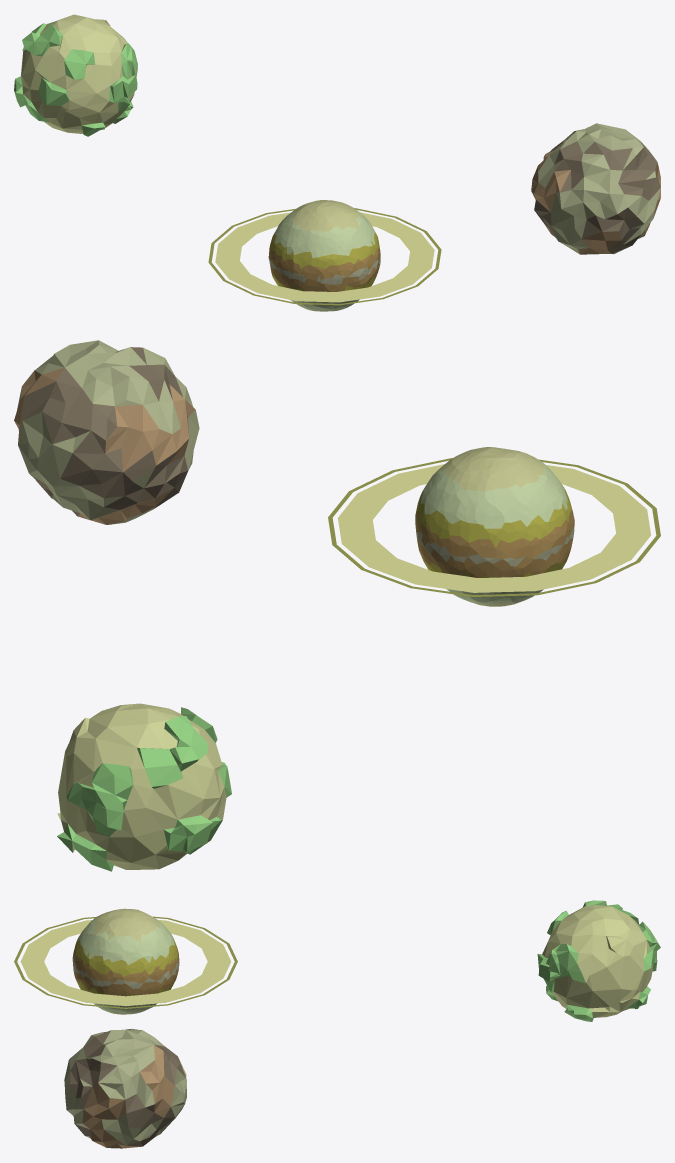
The model's file is LPPlanets.fbx.
3 renders of one model, top to bottom at view 1: azimuth 30°, elevation 25°; view 2: azimuth 150°, elevation 25°; view 3: azimuth 270°, elevation 25°, orthographic. The views are drawn at different scales.
Visible parts, largest first — view 1: LPPlanet01, LPPlanet02, LPPlanet03, LPPlanetDisc03; view 2: LPPlanet01, LPPlanet02, LPPlanet03, LPPlanetDisc03; view 3: LPPlanet01, LPPlanet02, LPPlanet03, LPPlanetDisc03.
Boxes of the visible parts, x1=… form: LPPlanet01: x1=531, y1=123, x2=660, y2=254; LPPlanet02: x1=14, y1=14, x2=137, y2=136; LPPlanet03: x1=268, y1=200, x2=380, y2=311; LPPlanetDisc03: x1=208, y1=208, x2=441, y2=305; LPPlanet01: x1=14, y1=340, x2=199, y2=524; LPPlanet02: x1=57, y1=703, x2=231, y2=871; LPPlanet03: x1=415, y1=447, x2=574, y2=606; LPPlanetDisc03: x1=328, y1=458, x2=660, y2=596; LPPlanet01: x1=64, y1=1028, x2=186, y2=1148; LPPlanet02: x1=537, y1=900, x2=660, y2=1021; LPPlanet03: x1=72, y1=908, x2=179, y2=1014; LPPlanetDisc03: x1=14, y1=916, x2=237, y2=1008.
Bounding box in the file's own units: 2733 × 704 × 3733.
